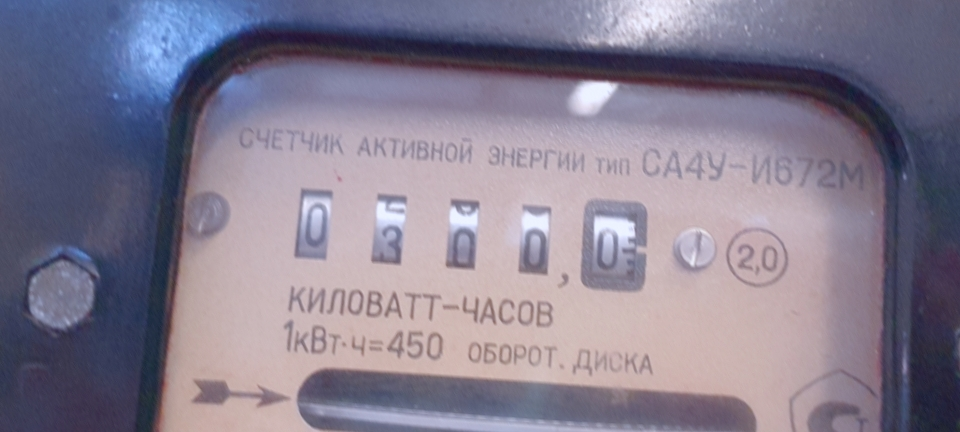0: (301, 197, 331, 250), (517, 225, 549, 273), (592, 224, 622, 274), (447, 222, 477, 271)
3: (374, 220, 405, 265)
screen: (272, 170, 659, 302)
